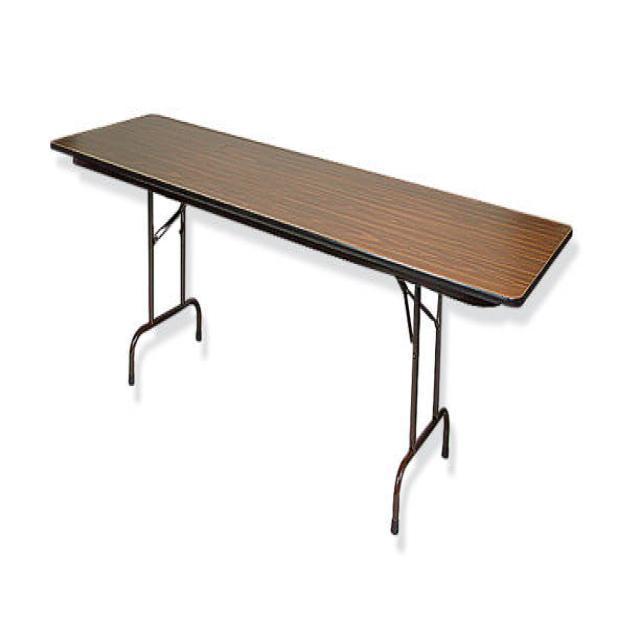table: (49, 108, 573, 534)
